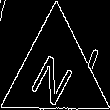N_NE: (29, 41, 82, 105)
